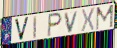I: (33, 15, 38, 40)
M: (95, 4, 114, 32)
P: (47, 12, 63, 38)
V: (13, 16, 30, 42), (64, 10, 80, 34)
X: (81, 7, 96, 33)
